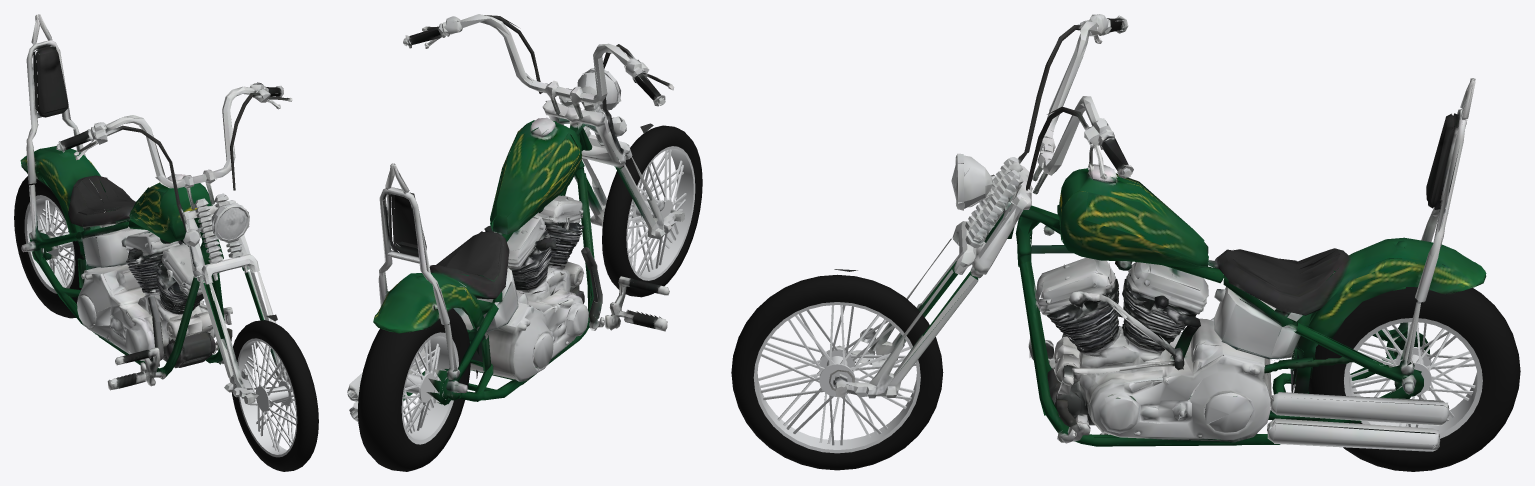
Rendered from chopper-0.glb.
The picture shows the model from 3 angles, left to right: view 1: azimuth 30°, elevation 25°; view 2: azimuth 150°, elevation 25°; view 3: azimuth 270°, elevation 25°; orthographic projection. The views are drawn at different scales.
Visible parts, largest first — view 1: Frota_chopper, Fork, Tyre_Front, Tyre_Rear; view 2: Frota_chopper, Tyre_Rear, Tyre_Front, Fork; view 3: Frota_chopper, Tyre_Front, Tyre_Rear, Fork.
Part boxes in pixels (box(x1,y1,x2,y2)): Frota_chopper: box(20, 14, 256, 390); Fork: box(56, 82, 292, 404); Tyre_Front: box(231, 320, 318, 471); Tyre_Rear: box(14, 176, 102, 318); Frota_chopper: box(347, 96, 669, 421); Tyre_Rear: box(357, 305, 470, 471); Tyre_Front: box(602, 125, 702, 297); Fork: box(403, 14, 684, 239); Frota_chopper: box(961, 78, 1486, 451); Tyre_Front: box(731, 274, 943, 470); Tyre_Rear: box(1308, 287, 1520, 471); Fork: box(829, 14, 1133, 398).
Size of the model in its own units: 1.13 by 1.4 by 2.46.
Materials: 1 (1 with a texture image).
